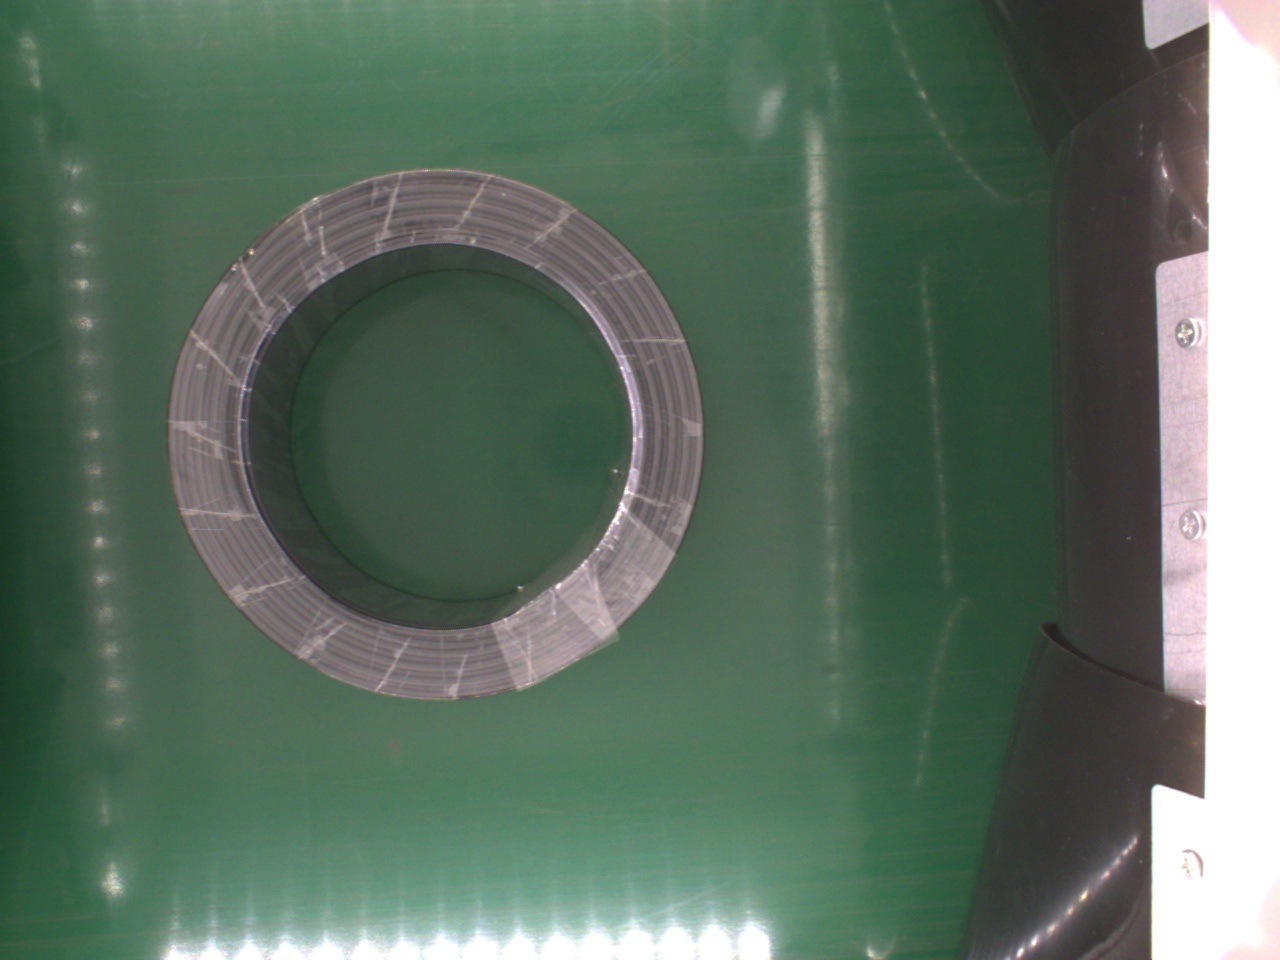black: (157, 167, 699, 703)
